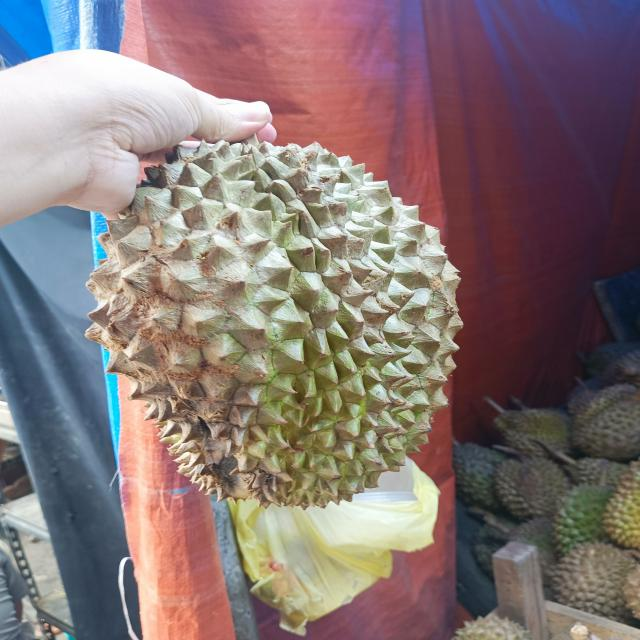mature: (87, 138, 459, 507)
